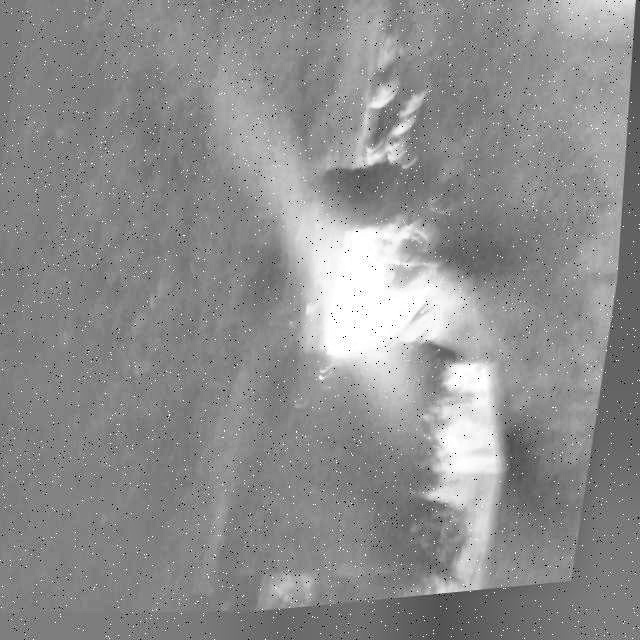Fire: (325, 221, 449, 375)
